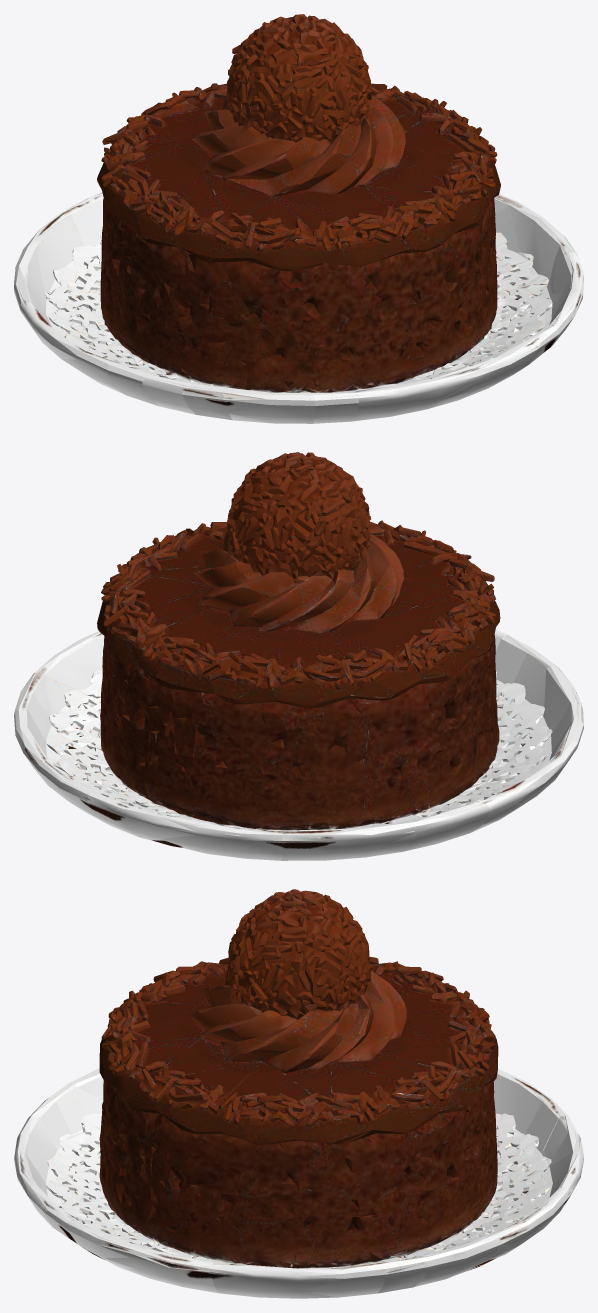
Rendered from bolo.glb.
3 views of the same model, one above another, from view 1: azimuth 30°, elevation 25°; view 2: azimuth 150°, elevation 25°; view 3: azimuth 270°, elevation 25° (orthographic).
Parts seen in each view (by area): view 1: Mesh_0; view 2: Mesh_0; view 3: Mesh_0.
Boxes of the visible parts, bbox=[...] form: Mesh_0: bbox=[14, 14, 583, 423]; Mesh_0: bbox=[14, 452, 583, 860]; Mesh_0: bbox=[14, 889, 583, 1298].
Size of the model in its own units: 1.9 by 1.2 by 1.9.
Materials: 1 (1 with a texture image).
